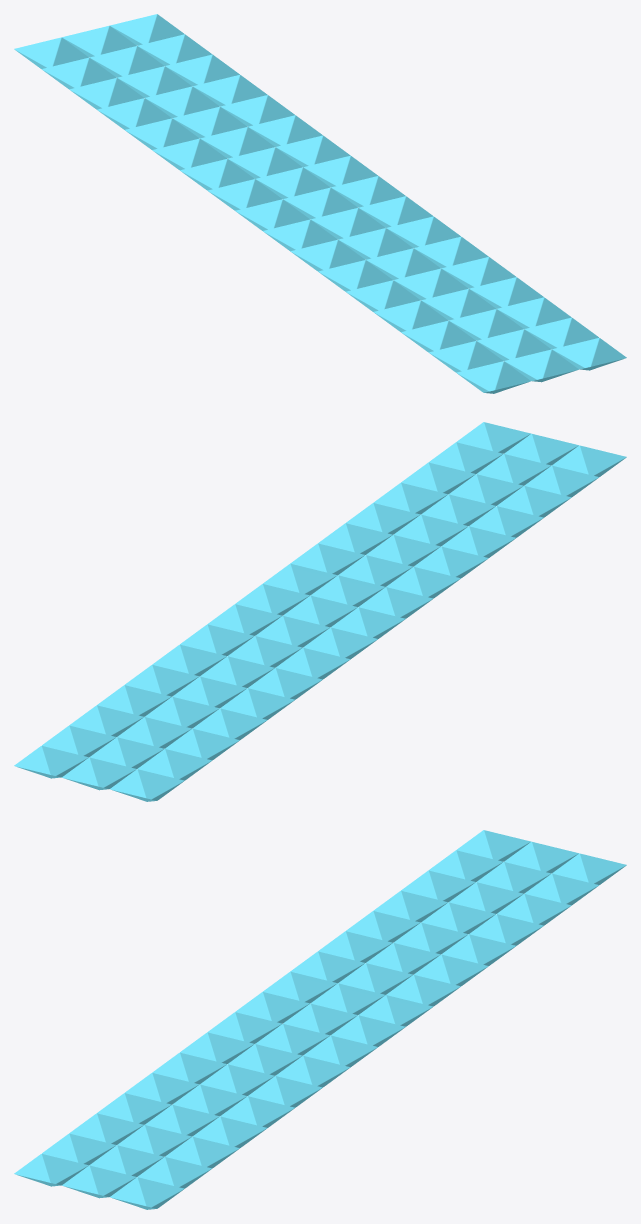
Rendered from StandardApartmentCeilingGlass_mesh.fbx.
3 views of the same model, one above another, from view 1: azimuth 30°, elevation 25°; view 2: azimuth 150°, elevation 25°; view 3: azimuth 330°, elevation 25° (orthographic).
Visible parts, largest first — view 1: StandardApartmentCeilingGlass_mesh; view 2: StandardApartmentCeilingGlass_mesh; view 3: StandardApartmentCeilingGlass_mesh.
Part boxes in pixels (box(x1,y1,x2,y2)): StandardApartmentCeilingGlass_mesh: box(14, 14, 626, 393); StandardApartmentCeilingGlass_mesh: box(14, 422, 626, 801); StandardApartmentCeilingGlass_mesh: box(14, 830, 626, 1209).
Size of the model in its own units: 94.9 by 10.58 by 538.
